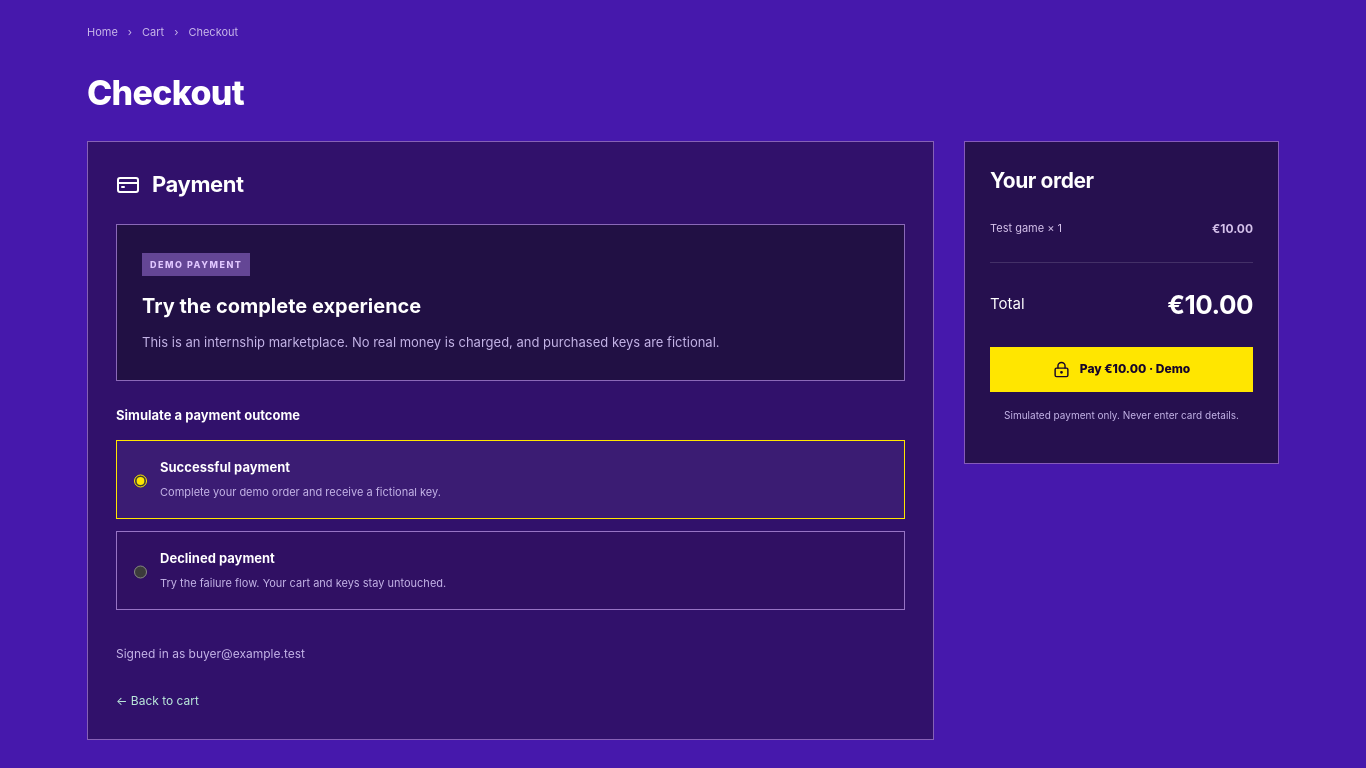
Test: retains the same idempotency key when the user retries an uncertain network outcome
Later steps or results of the test are not shown.
Click the button "Pay €10.00 · Demo". click: click(1122, 369)
box: [990,347,1253,392]
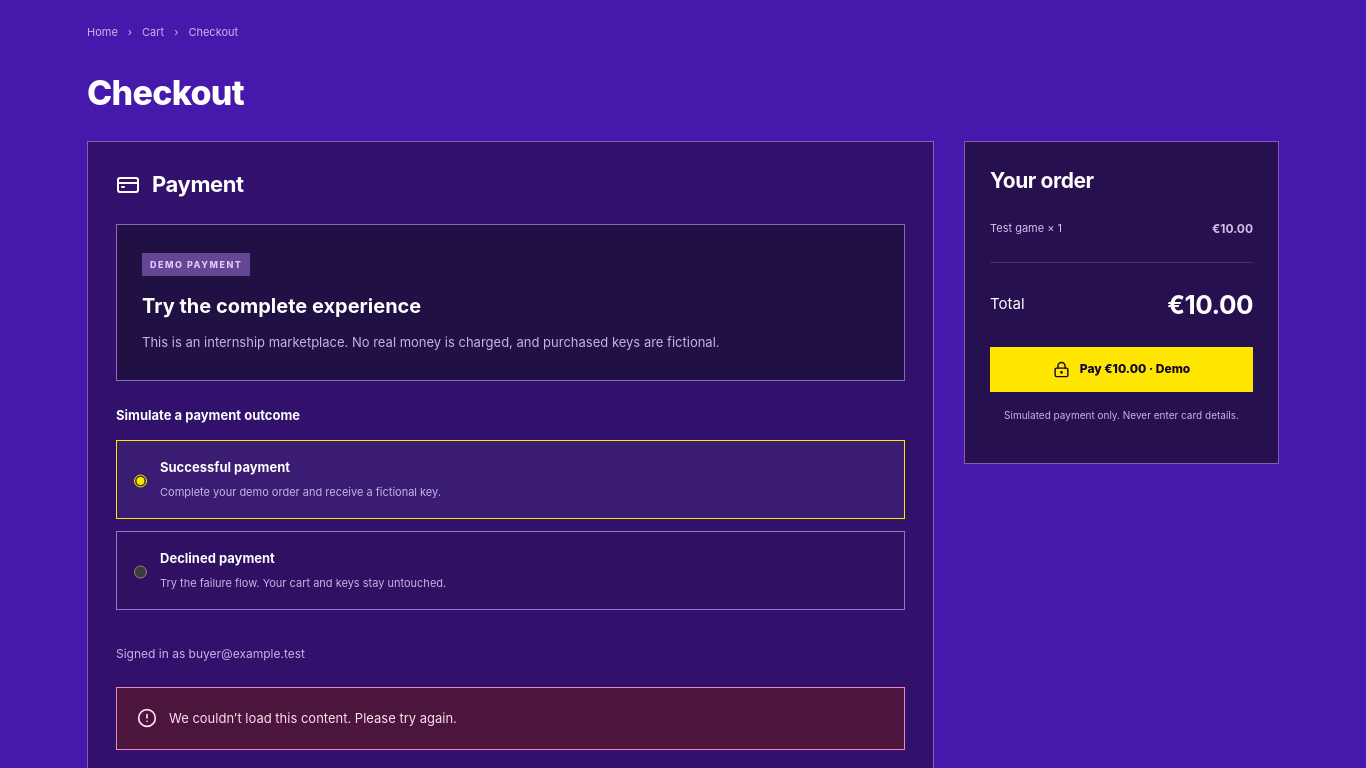
Result: the message "We couldn’t load this content. Please try again." is shown at [116,687,905,750]
